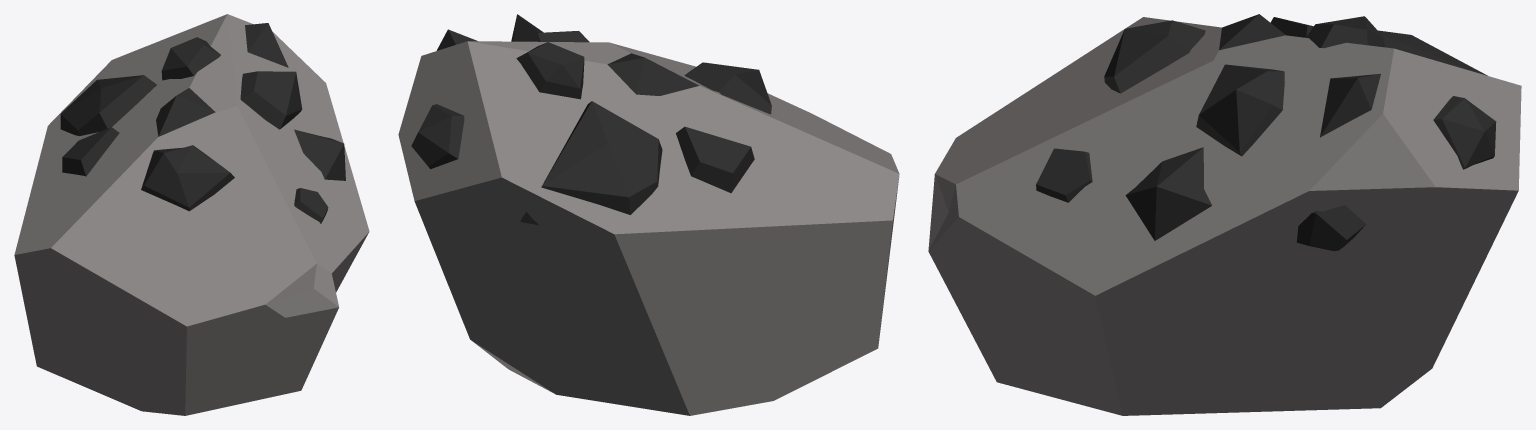
The model's file is magma-ore.glb.
3 renders of one model, left to right at view 1: azimuth 30°, elevation 25°; view 2: azimuth 150°, elevation 25°; view 3: azimuth 270°, elevation 25°, orthographic. The views are drawn at different scales.
Parts seen in each view (by area): view 1: magma-ore; view 2: magma-ore; view 3: magma-ore.
Boxes of the visible parts, x1=… form: magma-ore: x1=14, y1=14, x2=369, y2=415; magma-ore: x1=398, y1=14, x2=899, y2=415; magma-ore: x1=928, y1=14, x2=1521, y2=415.
Bounding box in the file's own units: 0.9908 × 0.7244 × 1.01.
Materials: 1 (1 with a texture image).
